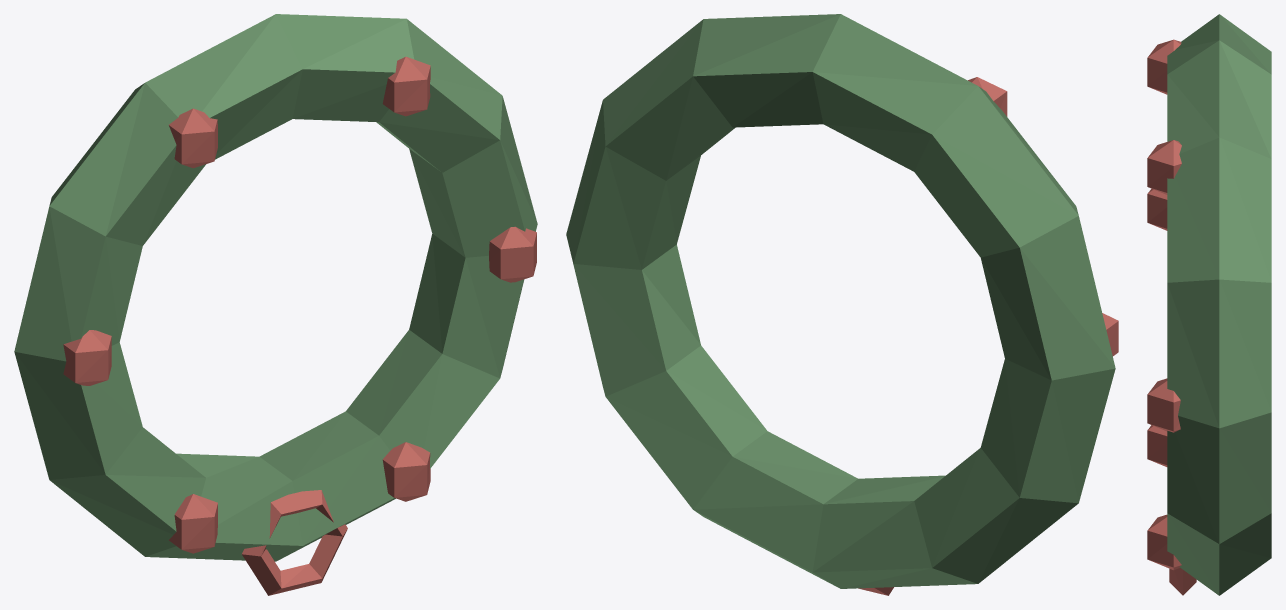
The model's file is wreath.glb.
The picture shows the model from 3 angles, left to right: view 1: azimuth 30°, elevation 25°; view 2: azimuth 150°, elevation 25°; view 3: azimuth 270°, elevation 25°; orthographic projection. The views are drawn at different scales.
Parts seen in each view (by area): view 1: wreath; view 2: wreath; view 3: wreath.
Boxes of the visible parts, left/top/right/bottom form: wreath: left=14, top=14, right=537, bottom=595; wreath: left=566, top=14, right=1118, bottom=595; wreath: left=1147, top=14, right=1271, bottom=595.
Size of the model in its own units: 0.64 by 0.6563 by 0.1359.
